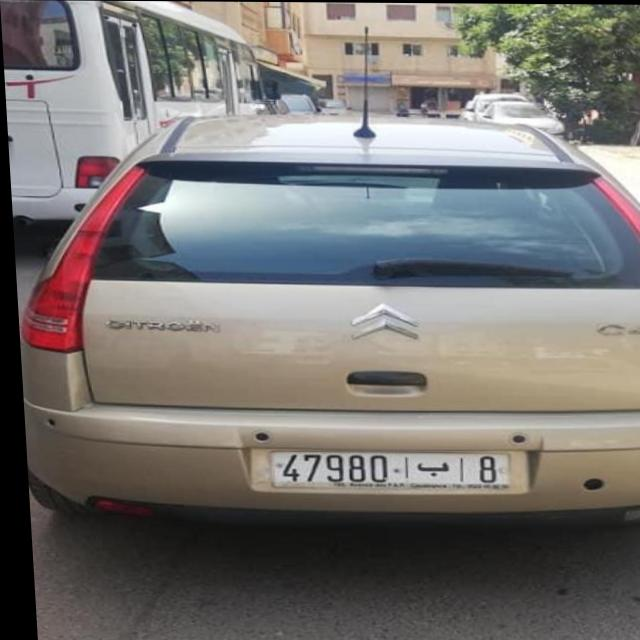License-Plate: (263, 451, 512, 491)
